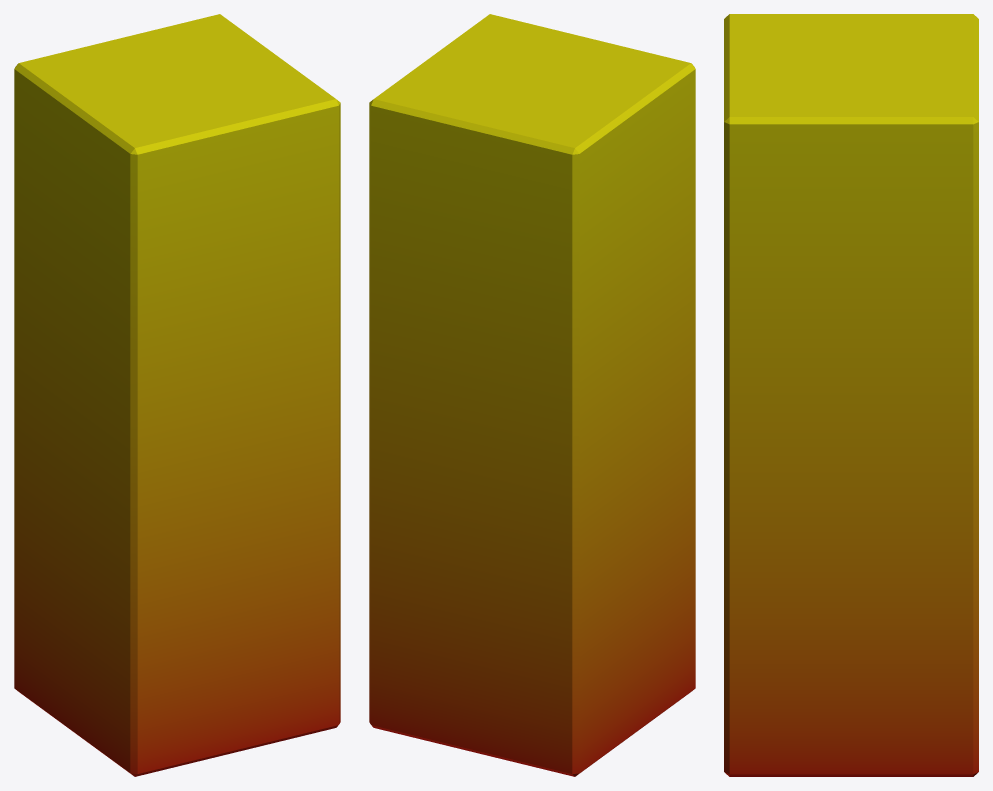
The model's file is aqueduct_pier.glb.
3 renders of one model, left to right at view 1: azimuth 30°, elevation 25°; view 2: azimuth 150°, elevation 25°; view 3: azimuth 270°, elevation 25°, orthographic. The views are drawn at different scales.
Parts seen in each view (by area): view 1: aqueduct_pier; view 2: aqueduct_pier; view 3: aqueduct_pier.
Part boxes in pixels (x1,y1,x2,y2): aqueduct_pier: [14, 14, 340, 776]; aqueduct_pier: [369, 14, 695, 776]; aqueduct_pier: [724, 14, 978, 776].
Size of what is drawn, in the model's own units: 1.4 by 4 by 1.4.
